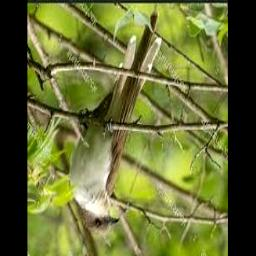Cuckoo: (71, 14, 161, 235)
